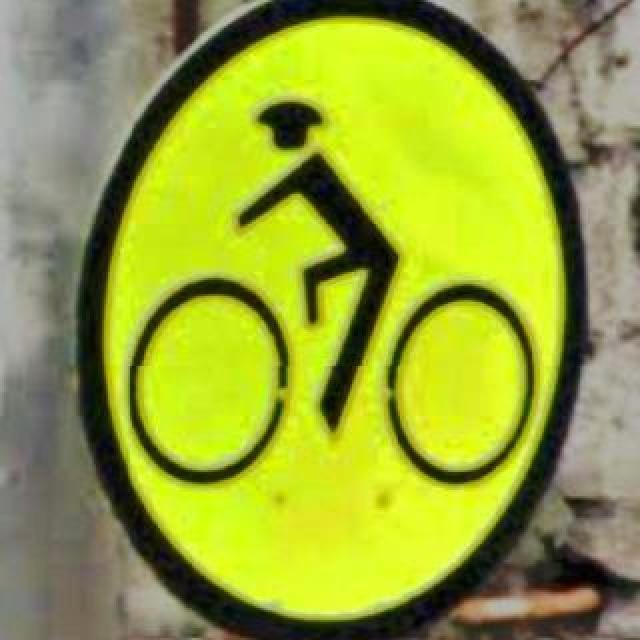bike lane: (74, 0, 586, 638)
